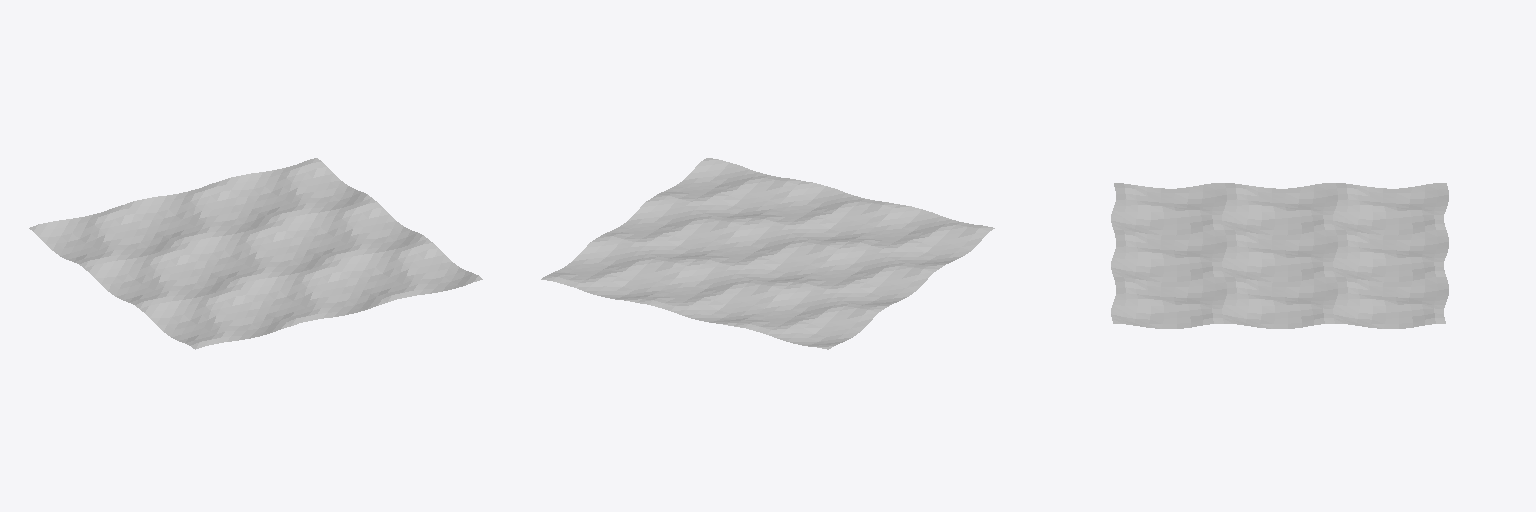
File: ocean_000276.obj
3 renders of one model, left to right at view 1: azimuth 30°, elevation 25°; view 2: azimuth 150°, elevation 25°; view 3: azimuth 270°, elevation 25°, orthographic.
Visible parts, largest first — view 1: Ocean_Plan.001; view 2: Ocean_Plan.001; view 3: Ocean_Plan.001.
Boxes of the visible parts, <box> form: Ocean_Plan.001: <box>29,158,482,349</box>; Ocean_Plan.001: <box>541,158,994,349</box>; Ocean_Plan.001: <box>1111,183,1448,328</box>.
Size of the model in its own units: 109280 by 2471 by 110740.